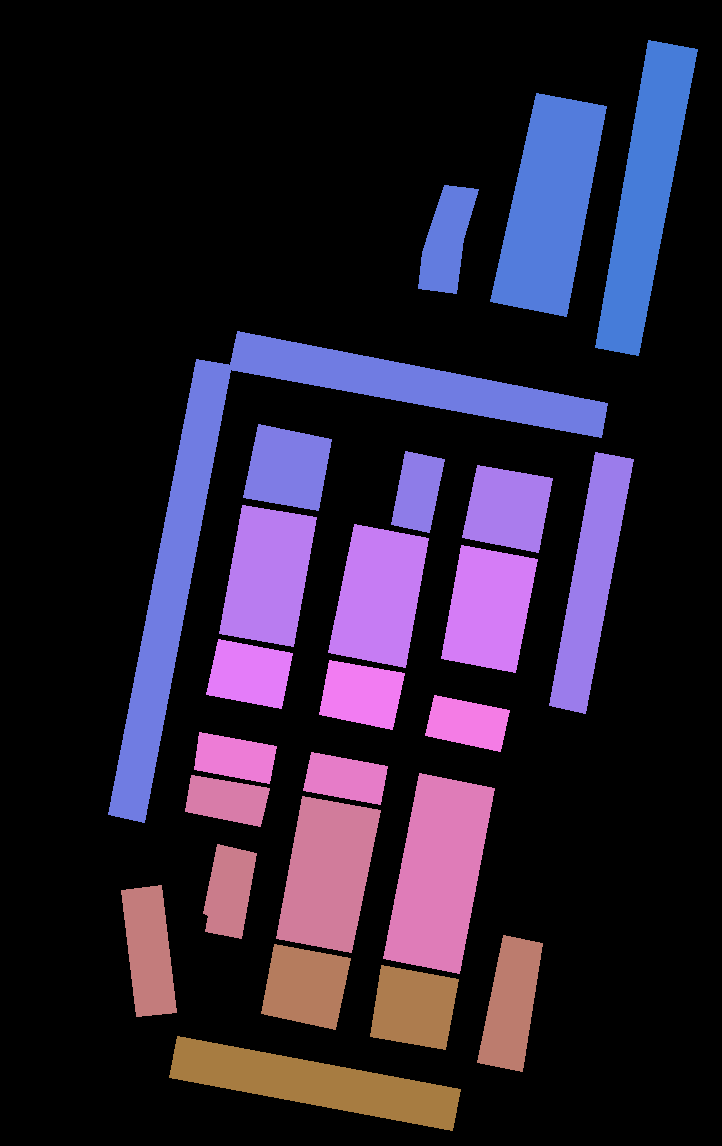parkingspot: (108, 359, 231, 822), (229, 331, 607, 437), (595, 40, 697, 355), (169, 1036, 460, 1130), (490, 93, 606, 316), (383, 773, 494, 973), (549, 452, 633, 713), (276, 796, 380, 952), (328, 524, 428, 667), (219, 505, 316, 646), (441, 545, 537, 672), (477, 935, 542, 1071), (462, 465, 552, 552), (243, 424, 331, 510), (261, 944, 350, 1029), (370, 965, 458, 1049), (121, 885, 176, 1016), (418, 185, 478, 293), (206, 639, 292, 708), (319, 660, 404, 729), (203, 844, 256, 938), (425, 695, 509, 751), (303, 752, 387, 804), (391, 451, 444, 532), (185, 775, 269, 826), (194, 732, 276, 783)
